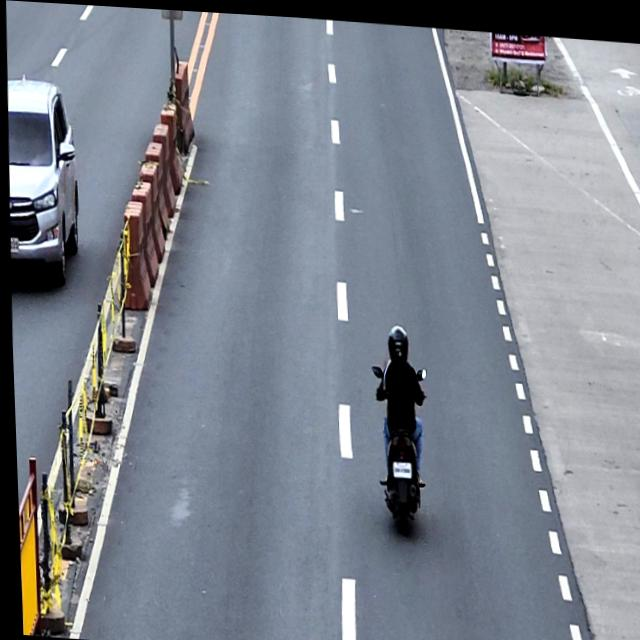Car: (3, 71, 82, 284)
License-Plate: (388, 453, 409, 474), (8, 237, 18, 253)
Motorcycle: (365, 358, 428, 532)
